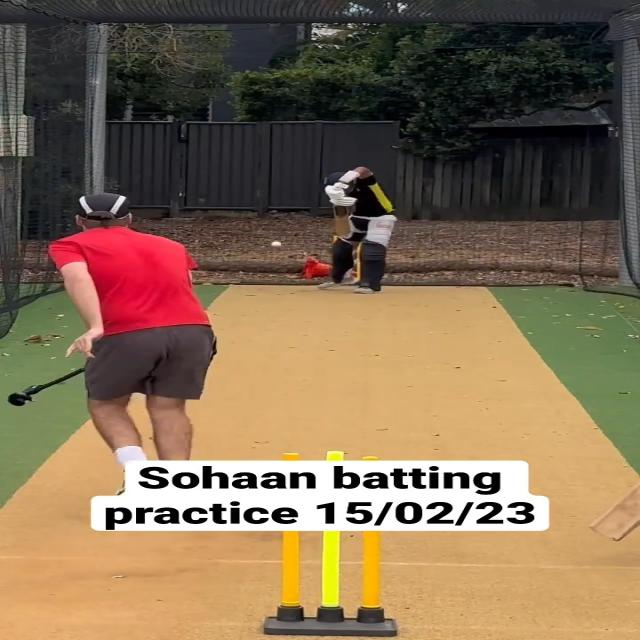ball: (272, 240, 282, 248)
stump: (267, 528, 393, 638)
